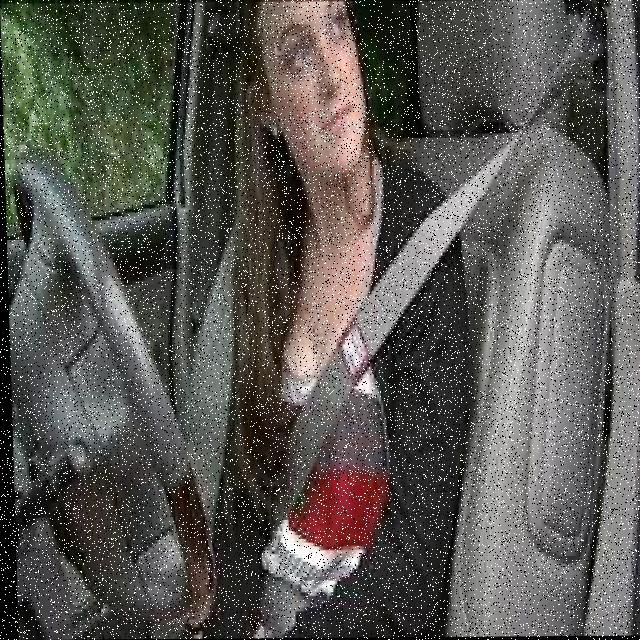seatbelt: (246, 153, 470, 545)
